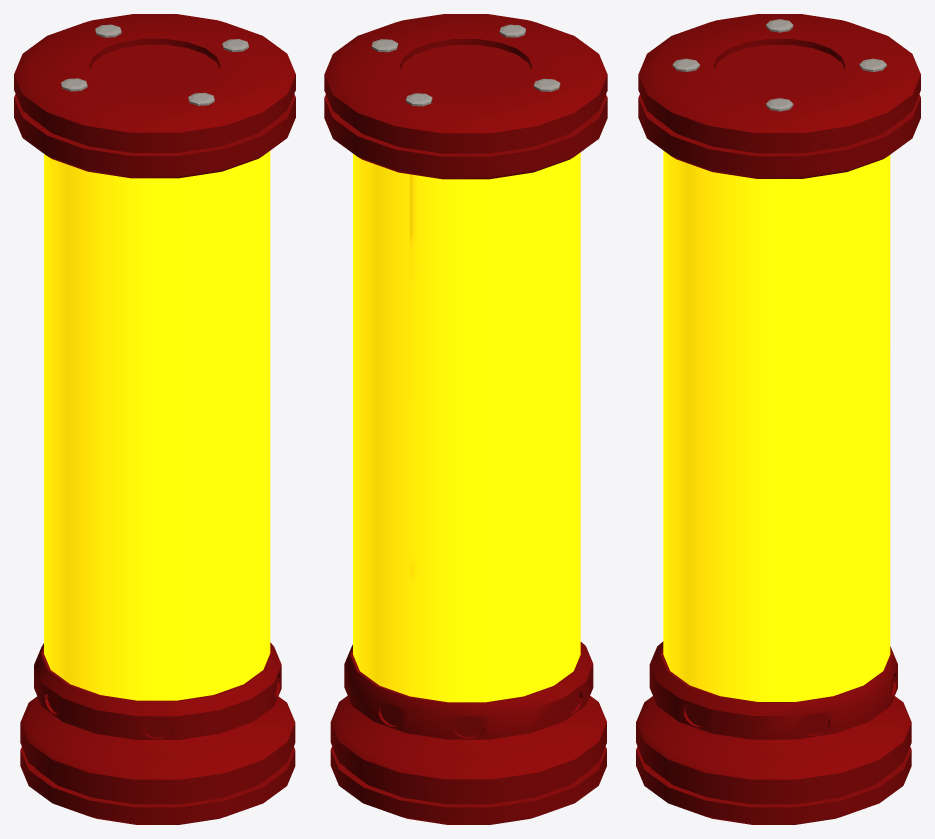
Rendered from Flash Light.fbx.
3 renders of one model, left to right at view 1: azimuth 30°, elevation 25°; view 2: azimuth 150°, elevation 25°; view 3: azimuth 270°, elevation 25°, orthographic.
Parts seen in each view (by area): view 1: Flash Light; view 2: Flash Light; view 3: Flash Light.
Boxes of the visible parts, x1=… form: Flash Light: x1=14, y1=14, x2=295, y2=824; Flash Light: x1=324, y1=14, x2=607, y2=824; Flash Light: x1=636, y1=14, x2=920, y2=824.
Size of the model in its own units: 19.89 by 56.05 by 20.37.
